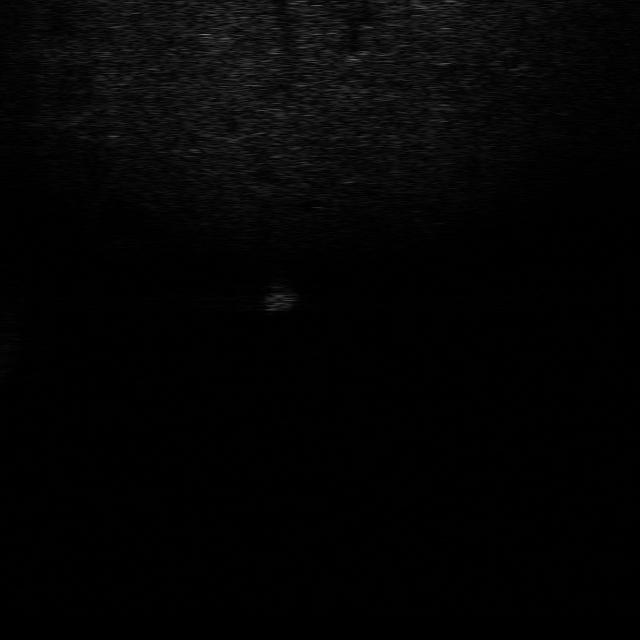human body: (260, 279, 304, 311)
